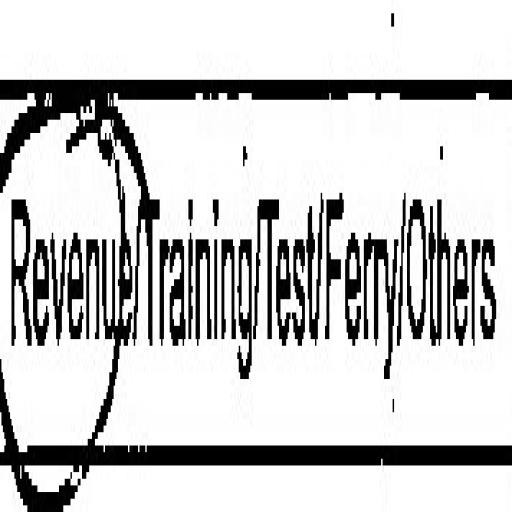check: (0, 13, 134, 512)
